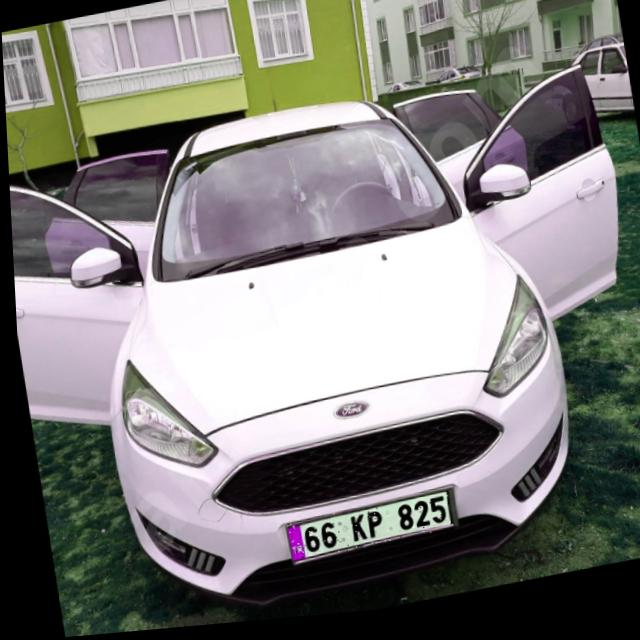license_plate: (280, 497, 451, 566)
